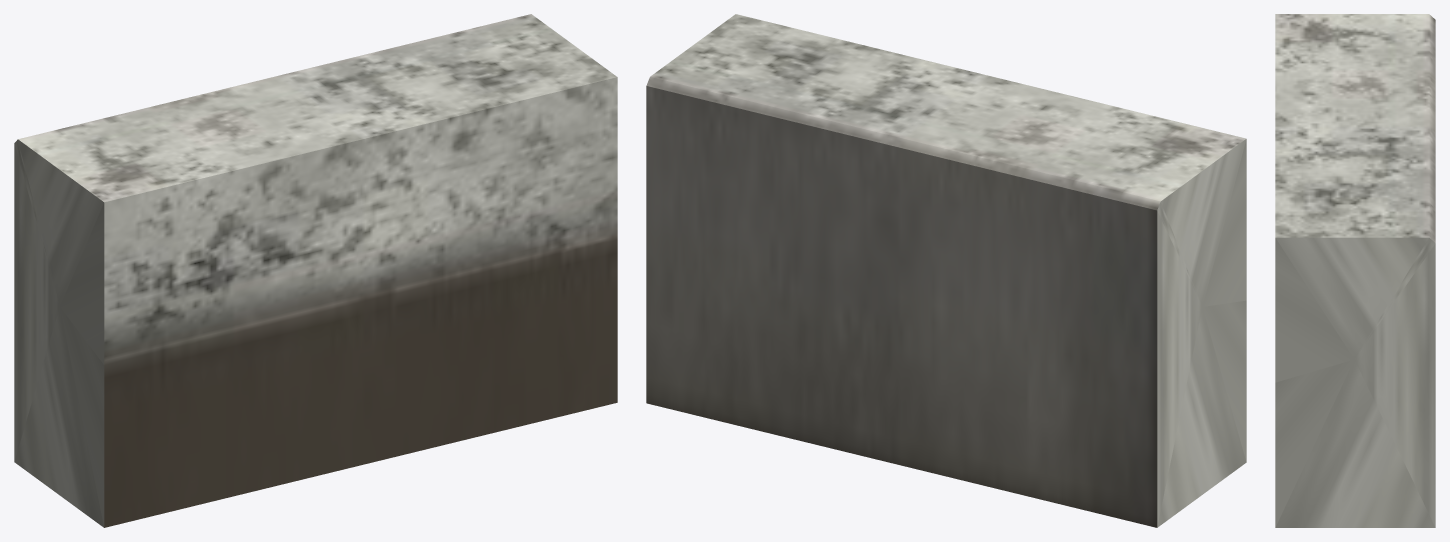
Rendered from curb_half_white_lod2_web.glb.
3 views of the same model, side by side, from view 1: azimuth 30°, elevation 25°; view 2: azimuth 150°, elevation 25°; view 3: azimuth 270°, elevation 25° (orthographic). The views are drawn at different scales.
Visible parts, largest first — view 1: curb_half_white_Mesh; view 2: curb_half_white_Mesh; view 3: curb_half_white_Mesh.
Part boxes in pixels (x1,y1,x2,y2): curb_half_white_Mesh: [14, 14, 617, 527]; curb_half_white_Mesh: [646, 14, 1246, 527]; curb_half_white_Mesh: [1275, 14, 1435, 527].
Bounding box in the file's own units: 0.495 × 0.3 × 0.15.
Materials: 1 (1 with a texture image).
